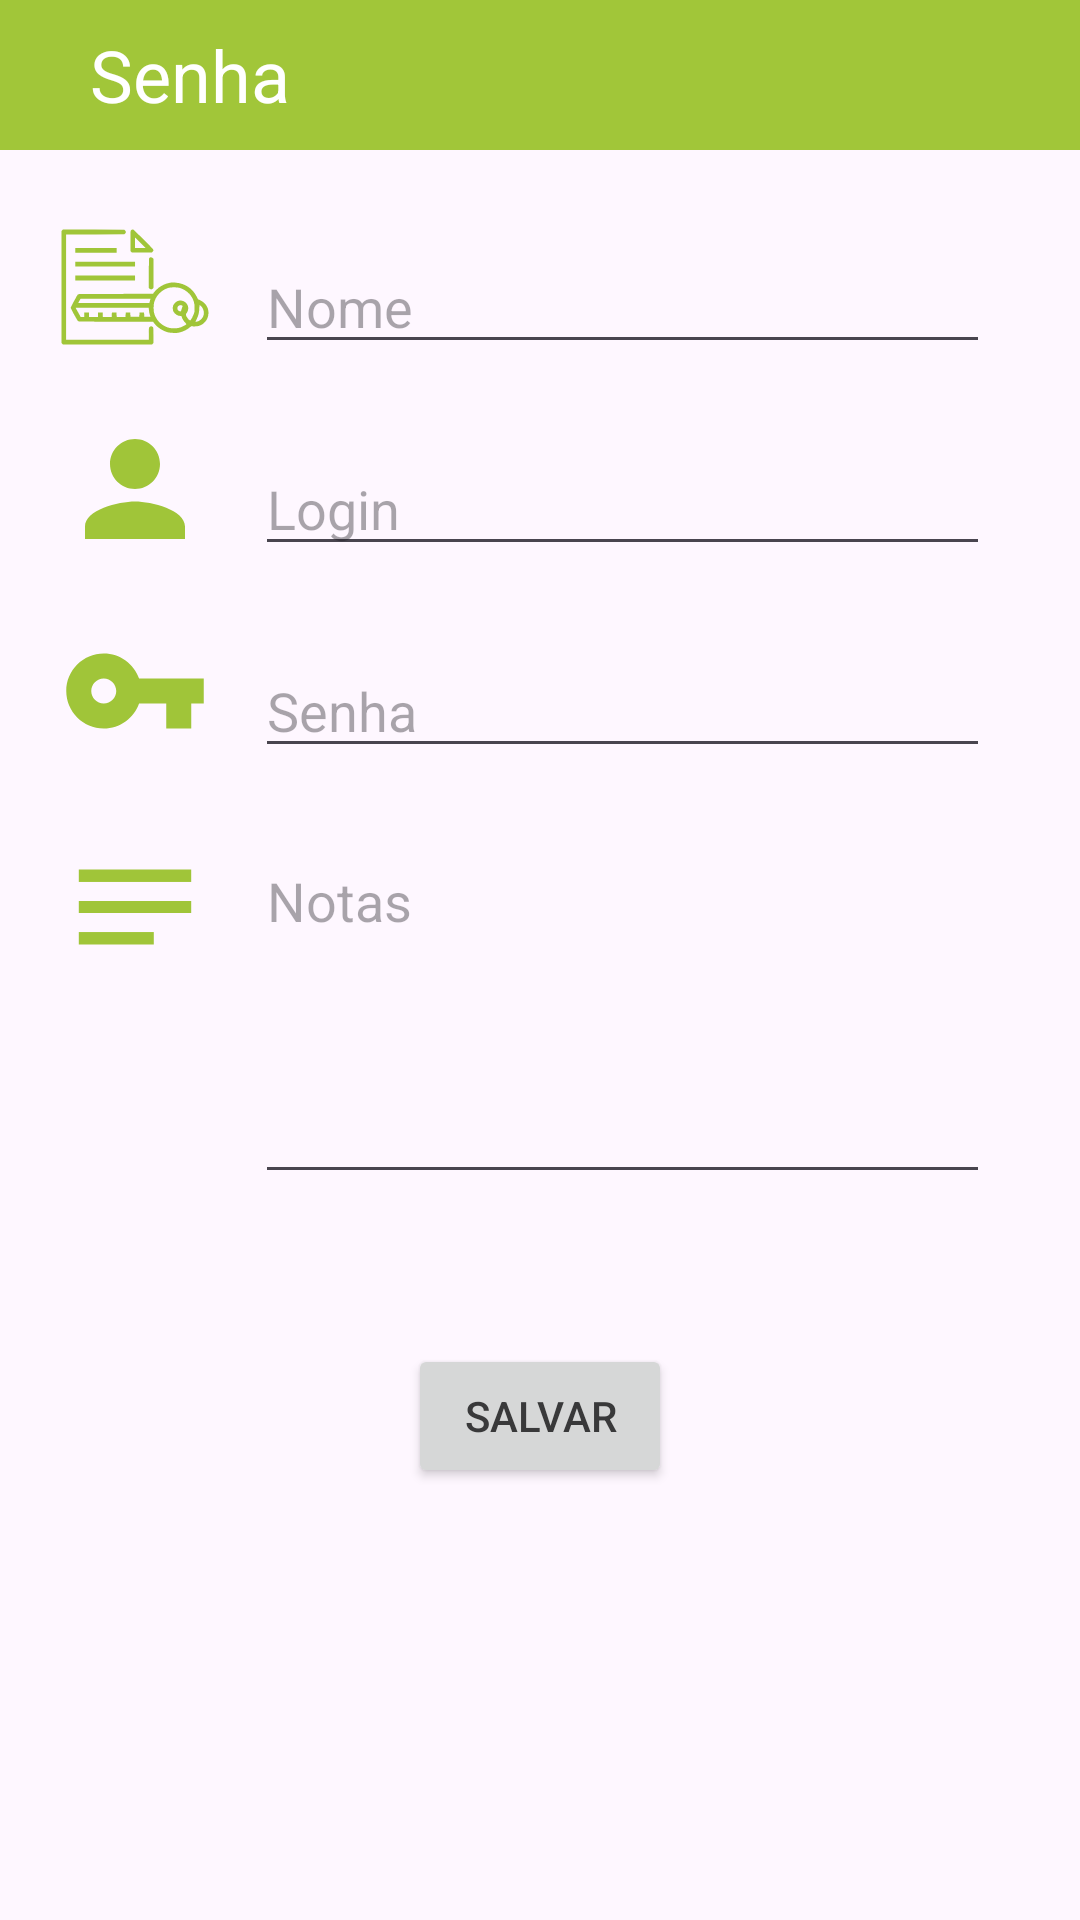

Locate icon controls on the screen. Image size 1080×1920, boxes as (x1, y1, x2, y2).
add notes: (78, 869, 192, 945)
add user: (85, 439, 185, 539)
item key: (66, 653, 204, 729)
